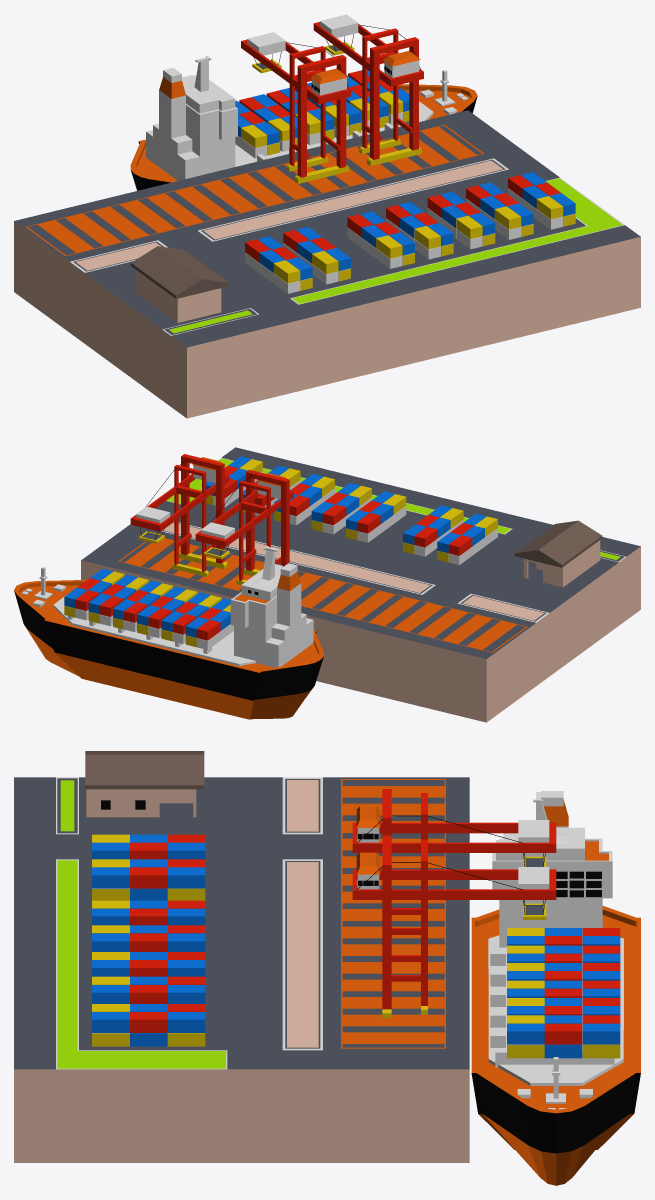
The model's file is Port_Ship.glb.
3 renders of one model, top to bottom at view 1: azimuth 30°, elevation 25°; view 2: azimuth 150°, elevation 25°; view 3: azimuth 270°, elevation 25°, orthographic. The views are drawn at different scales.
Visible parts, largest first — view 1: Port, Ship; view 2: Port, Ship; view 3: Port, Ship.
Part boxes in pixels (<box>): Port: <box>14,14,640,418</box>; Ship: <box>130,56,477,190</box>; Port: <box>81,447,640,722</box>; Ship: <box>14,546,323,719</box>; Port: <box>14,751,556,1162</box>; Ship: <box>471,791,640,1185</box>.
Size of the model in its own units: 14.55 by 5.64 by 12.14.
